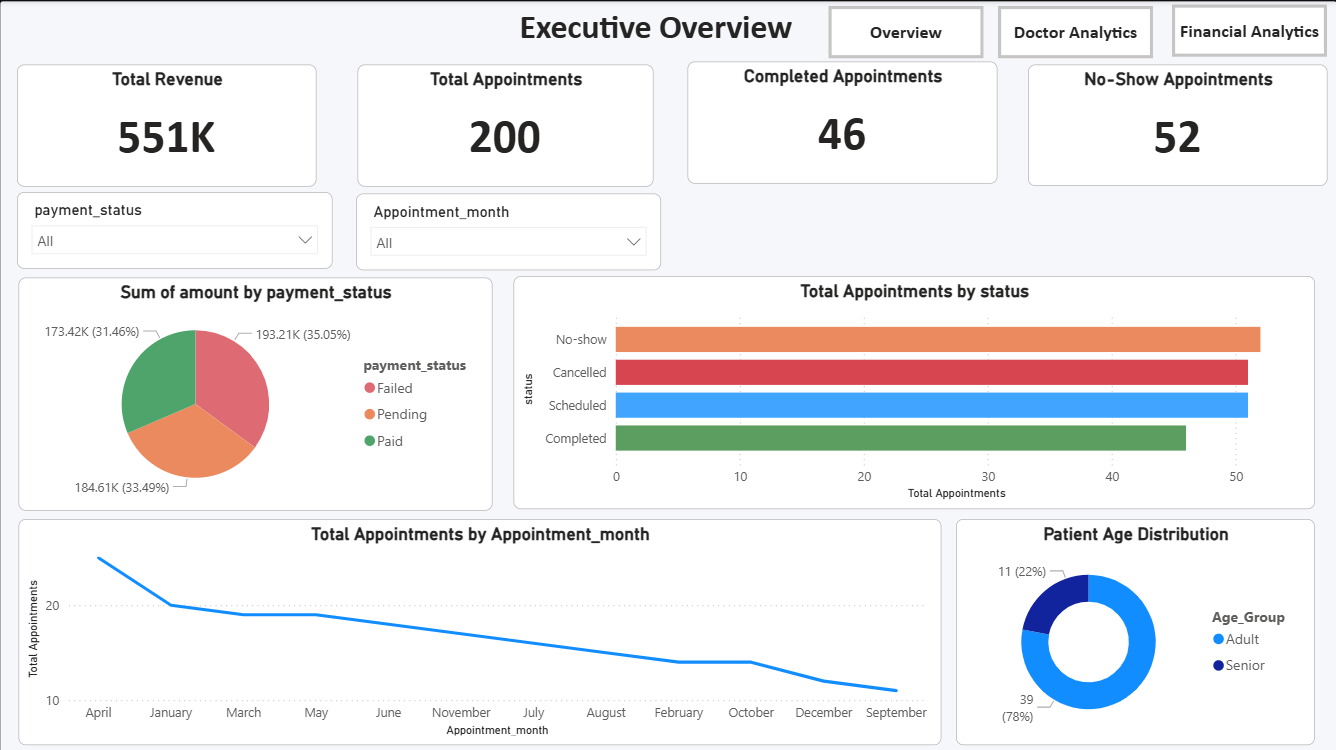

This screenshot's page, from the dashboard's own definition file:
{"tool":"powerbi","page":{"name":"Executive Overview","canvas":[1280,720],"ordinal":0},"visuals":[{"type":"cardVisual","title":"Total Revenue","fields":{"Data":["tblBilling.Total Revenue"]},"box":[16.6,58.2,286.2,116.5],"z":0},{"type":"cardVisual","title":"Total Appointments","fields":{"Data":["tblAppointments.Total Appointments"]},"box":[341.1,58.2,282.8,116.5],"z":1000},{"type":"cardVisual","title":"Completed Appointments","fields":{"Data":["tblAppointments.Completed Appointments"]},"box":[657.2,56.6,296.2,116.5],"z":2000},{"type":"cardVisual","title":"No-Show Appointments","fields":{"Data":["tblAppointments.No Show Appointments"]},"box":[981.4,58.9,286.3,116.1],"z":3000},{"type":"pieChart","fields":{"Y":["Sum(tblBilling.amount)"],"Category":["tblBilling.payment_status"]},"box":[18.3,264.5,452.6,222.9],"z":4000},{"type":"clusteredBarChart","fields":{"Category":["tblAppointments.status"],"Y":["tblAppointments.Total Appointments"]},"box":[491.5,264,765.1,222.7],"z":5000},{"type":"donutChart","title":"Patient Age Distribution","fields":{"Category":["tblPatients.Age_Group"],"Y":["CountNonNull(tblPatients.patient_id)"]},"box":[913.4,495.8,342.7,216.3],"z":6000},{"type":"slicer","fields":{"Values":["tblBilling.payment_status"]},"box":[16.6,183,301.1,73.2],"z":7000},{"type":"slicer","fields":{"Values":["tblAppointments.Appointment_month"]},"box":[341.1,184.7,291.2,73.2],"z":8000},{"type":"lineChart","fields":{"Category":["tblAppointments.Appointment_month"],"Y":["tblAppointments.Total Appointments"]},"box":[19.1,496.3,881.2,216.3],"z":9000},{"type":"textbox","box":[427.6,0,397.6,51.6],"z":9001},{"type":"actionButton","title":"Overview","box":[792,1.7,148.1,49.9],"z":9003},{"type":"actionButton","title":"Overview","box":[953.4,1.7,148.1,49.9],"z":9004},{"type":"actionButton","title":"Overview","box":[1119.7,0,148.1,49.9],"z":9005}]}

Visuals, with their boxes in screenshot pixels (x1, y1, x2, y2), scaled from the page's 1280x720 canvas onto the 1336x750 screenshot:
"Total Revenue" cardVisual: rect(17, 61, 316, 182)
"Total Appointments" cardVisual: rect(356, 61, 651, 182)
"Completed Appointments" cardVisual: rect(686, 59, 995, 180)
"No-Show Appointments" cardVisual: rect(1024, 61, 1323, 182)
pieChart - Sum(tblBilling.amount) x tblBilling.payment_status: rect(19, 276, 492, 508)
clusteredBarChart - tblAppointments.status x tblAppointments.Total Appointments: rect(513, 275, 1312, 507)
"Patient Age Distribution" donutChart: rect(953, 516, 1311, 742)
slicer - tblBilling.payment_status: rect(17, 191, 332, 267)
slicer - tblAppointments.Appointment_month: rect(356, 192, 660, 269)
lineChart - tblAppointments.Appointment_month x tblAppointments.Total Appointments: rect(20, 517, 940, 742)
textbox: rect(446, 0, 861, 54)
"Overview" actionButton: rect(827, 2, 981, 54)
"Overview" actionButton: rect(995, 2, 1150, 54)
"Overview" actionButton: rect(1169, 0, 1323, 52)
